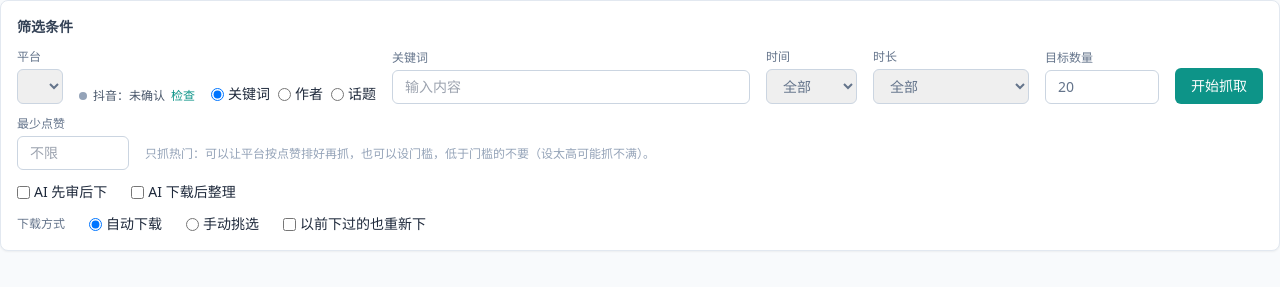
Test case: D4 新建抓取表单 › 没填关键词：错误显示在关键词框下面、框标红；一输入就消失
This screenshot has width=1280, height=287.
Click the button "开始抓取" at (1219, 86), box x1=1175 y1=68 x2=1263 y2=104
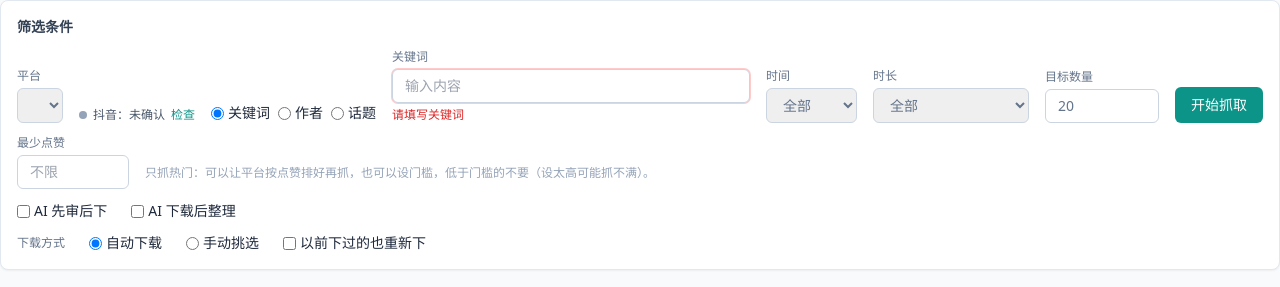
Expected: the label with placeholder "输入内容" shows "请填写关键词", x1=392 y1=106 x2=464 y2=123
Type "猫" into the field with placeholder "输入内容" at (571, 86), box x1=392 y1=69 x2=750 y2=103
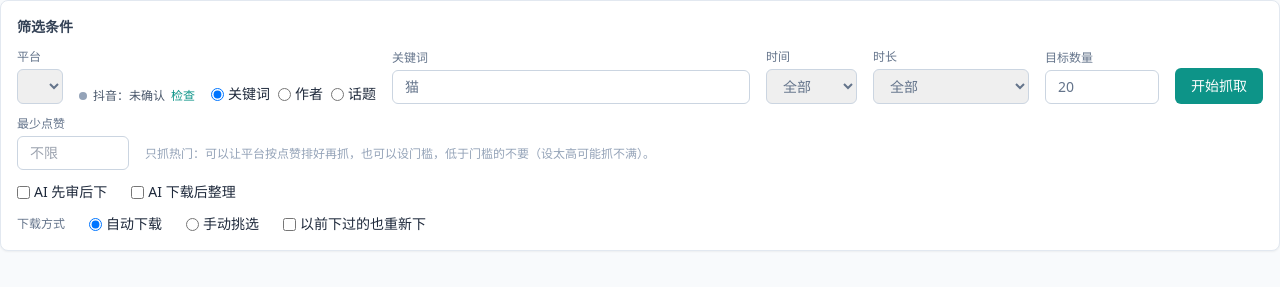
Expected: the text "请填写关键词" is gone
